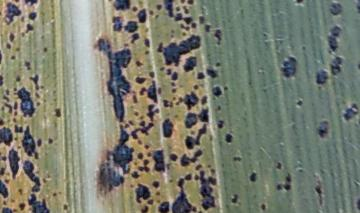tarspot: (93, 37, 132, 122), (96, 123, 136, 194), (155, 35, 202, 67), (171, 176, 196, 213), (198, 170, 217, 211), (15, 85, 36, 119), (21, 159, 41, 193), (21, 124, 39, 159), (184, 122, 207, 149), (137, 80, 160, 103), (129, 120, 155, 140), (326, 24, 341, 55), (26, 193, 49, 213), (3, 1, 22, 25), (7, 147, 20, 180), (278, 55, 296, 78), (180, 150, 204, 167), (134, 181, 151, 205), (152, 149, 166, 173), (328, 56, 344, 76), (342, 103, 359, 121), (183, 92, 199, 111), (144, 103, 160, 122), (161, 118, 174, 139), (1, 126, 14, 147), (315, 68, 330, 86), (182, 55, 197, 73), (316, 119, 330, 138), (28, 72, 41, 92), (184, 112, 198, 129), (111, 14, 123, 33), (162, 1, 175, 18), (327, 2, 342, 16), (123, 20, 138, 34), (113, 1, 131, 11), (198, 107, 209, 123), (1, 177, 9, 198), (138, 159, 150, 173), (213, 28, 222, 46), (137, 8, 147, 24), (158, 200, 170, 213), (173, 93, 184, 107), (205, 68, 217, 80), (178, 22, 191, 33), (22, 59, 33, 71), (161, 98, 173, 109), (2, 101, 12, 114), (134, 76, 148, 85), (211, 85, 221, 97), (24, 22, 34, 34), (7, 31, 17, 43), (53, 105, 62, 118), (130, 89, 138, 103), (282, 183, 293, 193), (313, 184, 323, 195), (27, 11, 38, 21), (12, 124, 23, 134), (130, 33, 139, 45), (168, 153, 178, 163), (143, 37, 151, 49), (23, 1, 39, 7), (294, 98, 304, 107), (224, 133, 233, 143), (199, 94, 208, 104), (133, 59, 143, 68), (174, 12, 183, 22), (216, 119, 224, 130), (170, 70, 178, 81), (183, 15, 191, 26), (285, 172, 292, 184), (1, 206, 13, 213), (194, 163, 203, 172), (148, 70, 157, 79), (249, 172, 257, 182), (230, 193, 238, 203), (152, 179, 160, 189), (130, 171, 140, 179), (182, 5, 190, 15), (203, 22, 210, 33), (190, 22, 199, 30), (232, 156, 242, 163), (18, 201, 25, 211), (133, 109, 140, 119), (355, 1, 360, 14), (260, 31, 268, 39), (140, 205, 148, 213), (275, 161, 282, 170), (197, 71, 204, 80), (5, 41, 12, 50), (12, 100, 19, 109), (1, 95, 10, 102), (33, 92, 42, 99), (198, 15, 205, 24), (356, 196, 360, 211), (36, 138, 42, 148), (1, 166, 6, 178), (1, 151, 7, 161), (275, 183, 282, 191), (165, 68, 172, 76), (192, 83, 199, 91), (188, 129, 196, 136), (46, 137, 54, 144), (11, 116, 18, 124), (136, 152, 143, 160), (153, 13, 160, 21), (155, 3, 162, 11), (138, 114, 145, 122), (4, 87, 10, 96), (148, 9, 154, 18), (156, 86, 162, 95), (1, 74, 5, 87), (260, 203, 265, 213), (192, 173, 199, 180), (143, 49, 150, 56), (170, 87, 177, 94), (42, 46, 49, 53), (9, 54, 16, 61), (14, 75, 21, 82), (34, 101, 41, 108), (145, 151, 152, 158), (300, 44, 306, 52), (146, 199, 154, 205), (1, 49, 4, 65), (169, 82, 178, 87), (293, 1, 304, 5), (214, 61, 221, 67), (222, 84, 228, 91), (154, 190, 161, 196), (185, 174, 191, 181), (210, 167, 216, 174), (158, 66, 165, 72), (62, 203, 68, 210), (4, 177, 11, 183), (20, 15, 26, 22), (14, 46, 21, 52), (143, 143, 149, 150), (131, 6, 137, 13), (174, 5, 181, 11), (123, 123, 130, 129), (39, 34, 45, 41), (216, 104, 221, 112), (51, 190, 56, 198), (16, 187, 22, 193), (1, 118, 5, 127), (13, 110, 19, 116), (356, 61, 360, 69), (186, 1, 194, 5), (205, 163, 211, 168), (12, 86, 17, 92), (181, 31, 186, 37), (179, 1, 185, 4), (13, 1, 19, 3), (106, 1, 112, 3)
